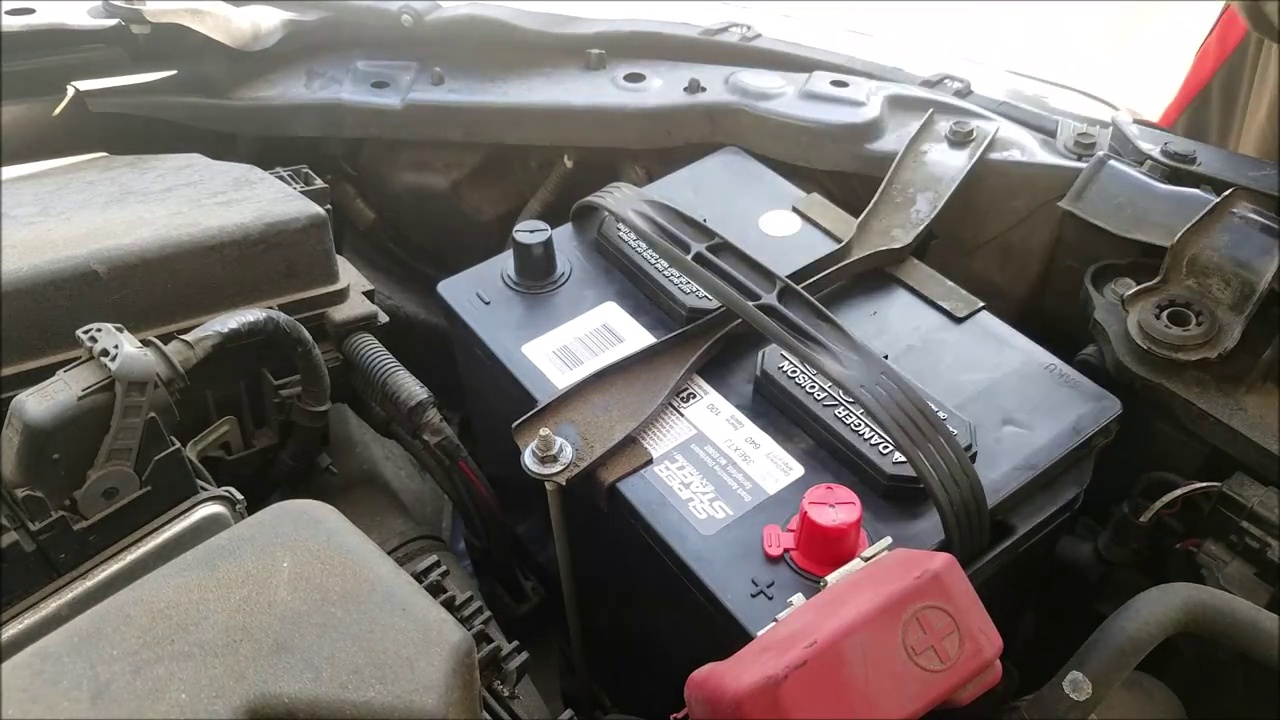battery: (425, 145, 1117, 645)
pos_disconnected: (705, 471, 946, 717)
